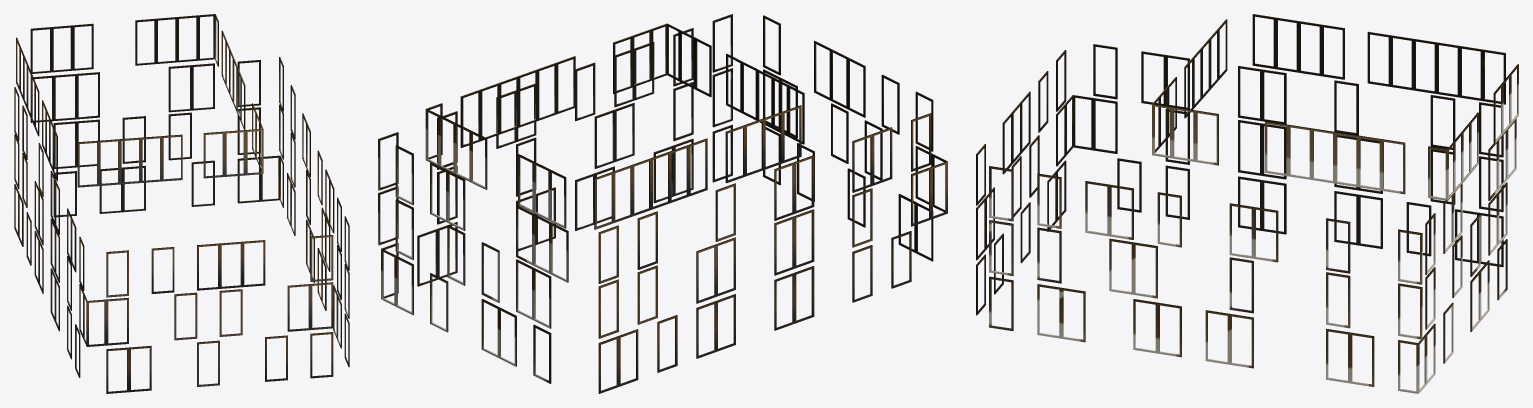
File: Building_04_Frame.fbx
The picture shows the model from 3 angles, left to right: view 1: azimuth 30°, elevation 25°; view 2: azimuth 150°, elevation 25°; view 3: azimuth 270°, elevation 25°; orthographic projection. The views are drawn at different scales.
Visible parts, largest first — view 1: Building_04_Frame; view 2: Building_04_Frame; view 3: Building_04_Frame.
Boxes of the visible parts, box(x1,y1,x2,y2) form: Building_04_Frame: box(14, 14, 349, 393); Building_04_Frame: box(378, 14, 947, 393); Building_04_Frame: box(976, 14, 1518, 393).
Bounding box in the file's own units: 22.15 × 11.55 × 26.38.
1 material, 1 textured.
